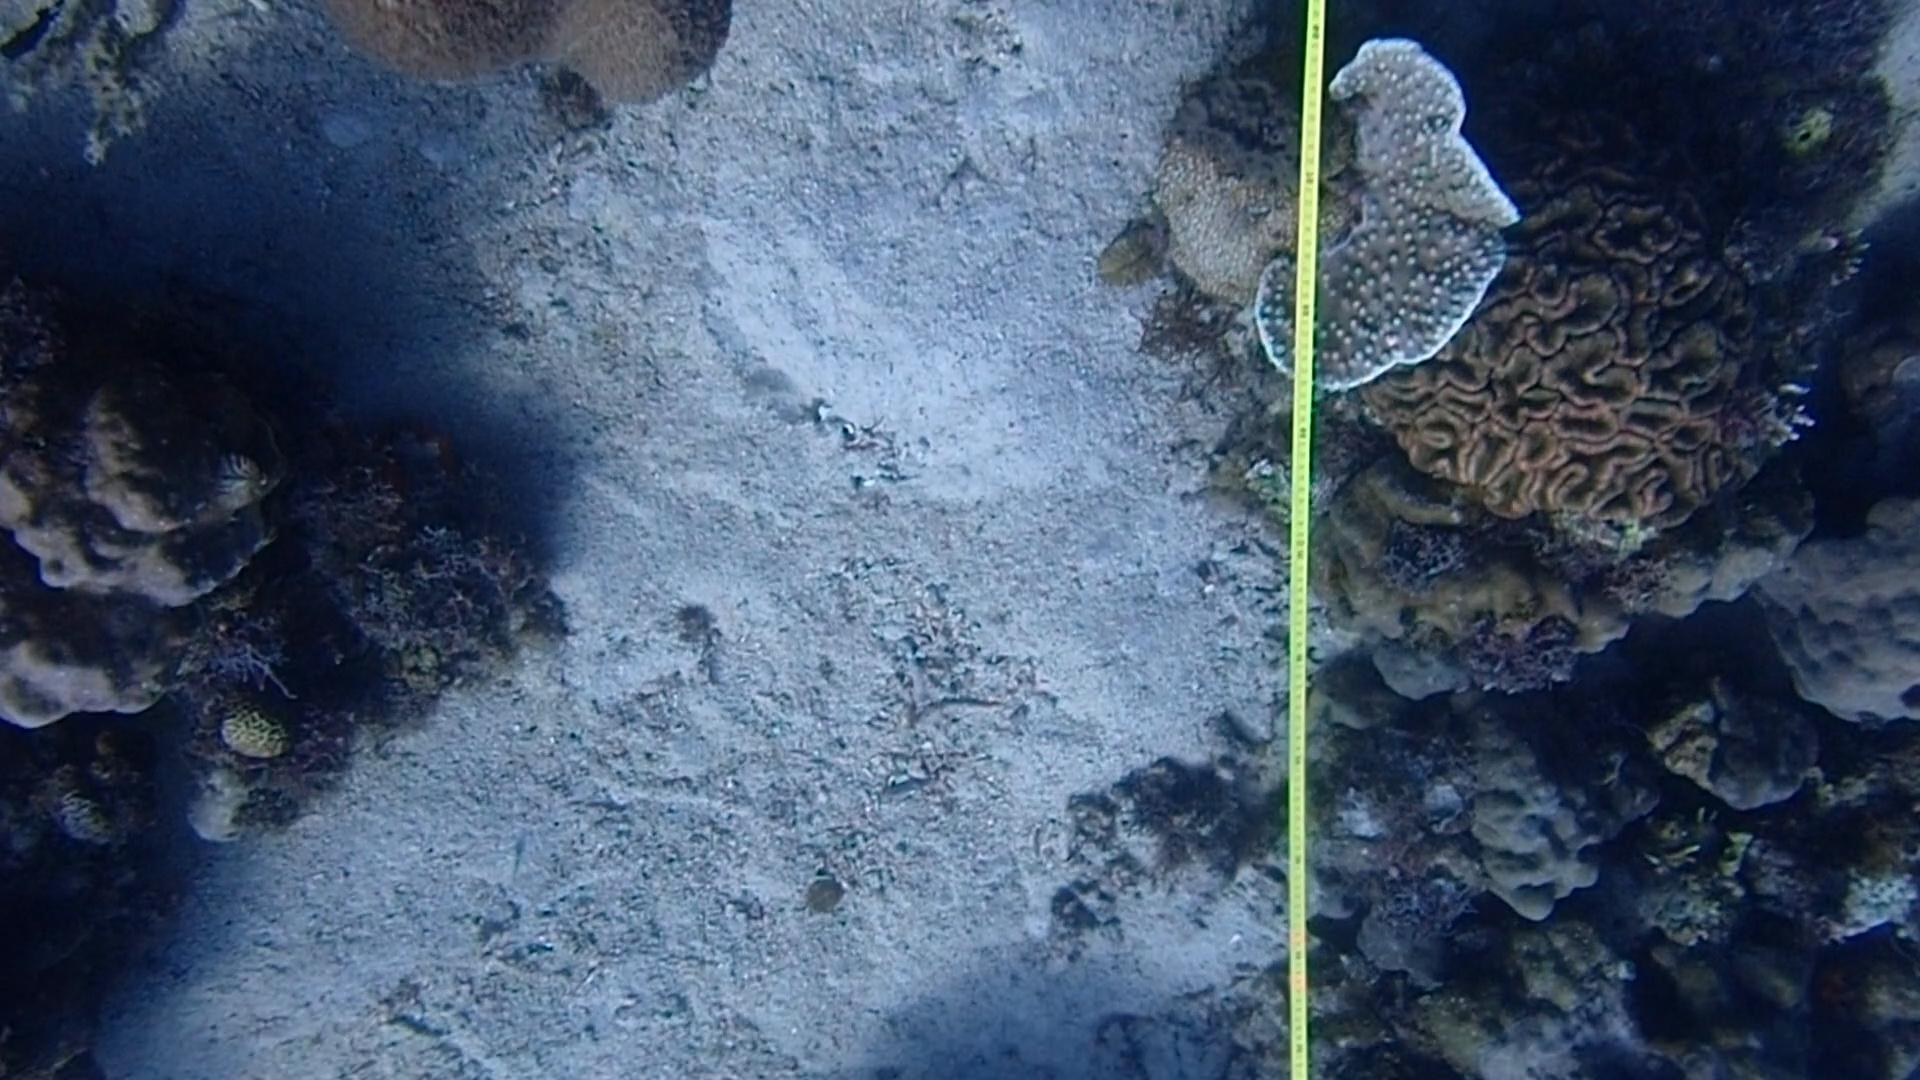Dark Fish: (7, 3, 62, 65)
